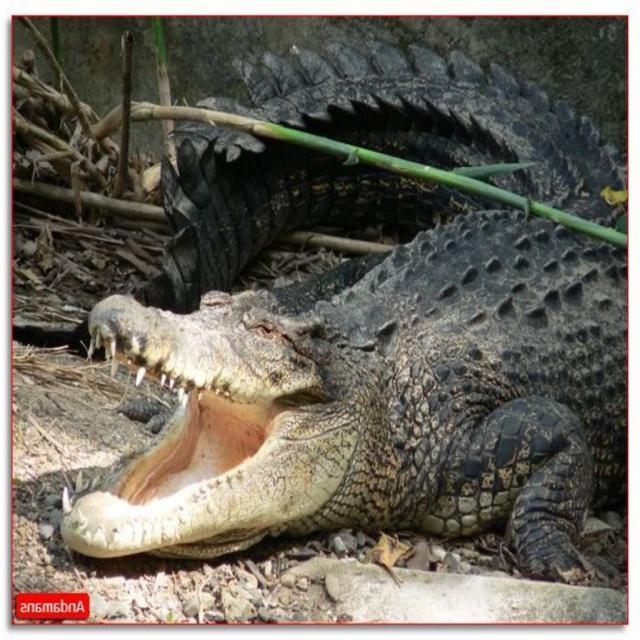crocodile: (20, 15, 639, 620)
